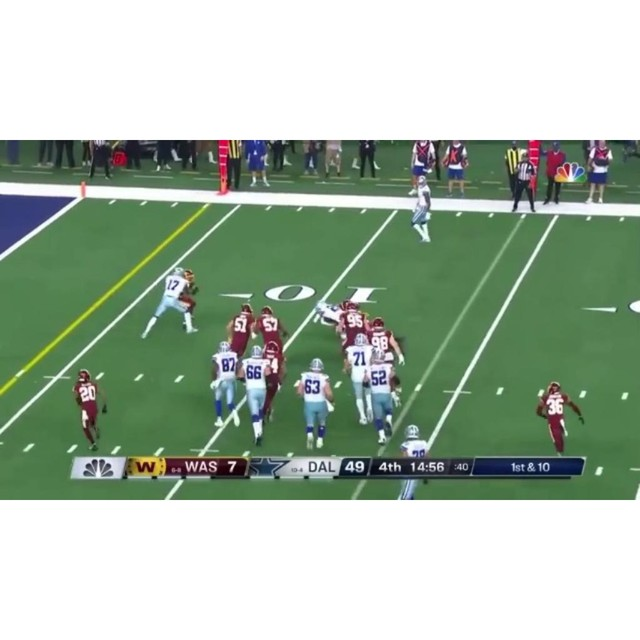american-football-player: (141, 265, 197, 339), (293, 358, 337, 450), (536, 381, 584, 456), (364, 350, 401, 447), (238, 343, 273, 444), (342, 334, 375, 427), (208, 340, 241, 430), (71, 370, 105, 451), (397, 421, 431, 499), (261, 341, 286, 426), (367, 316, 406, 365), (225, 304, 256, 362), (337, 301, 371, 353), (409, 176, 433, 243), (254, 306, 286, 353), (313, 299, 351, 328), (399, 424, 431, 458)
referee: (510, 152, 539, 215)
